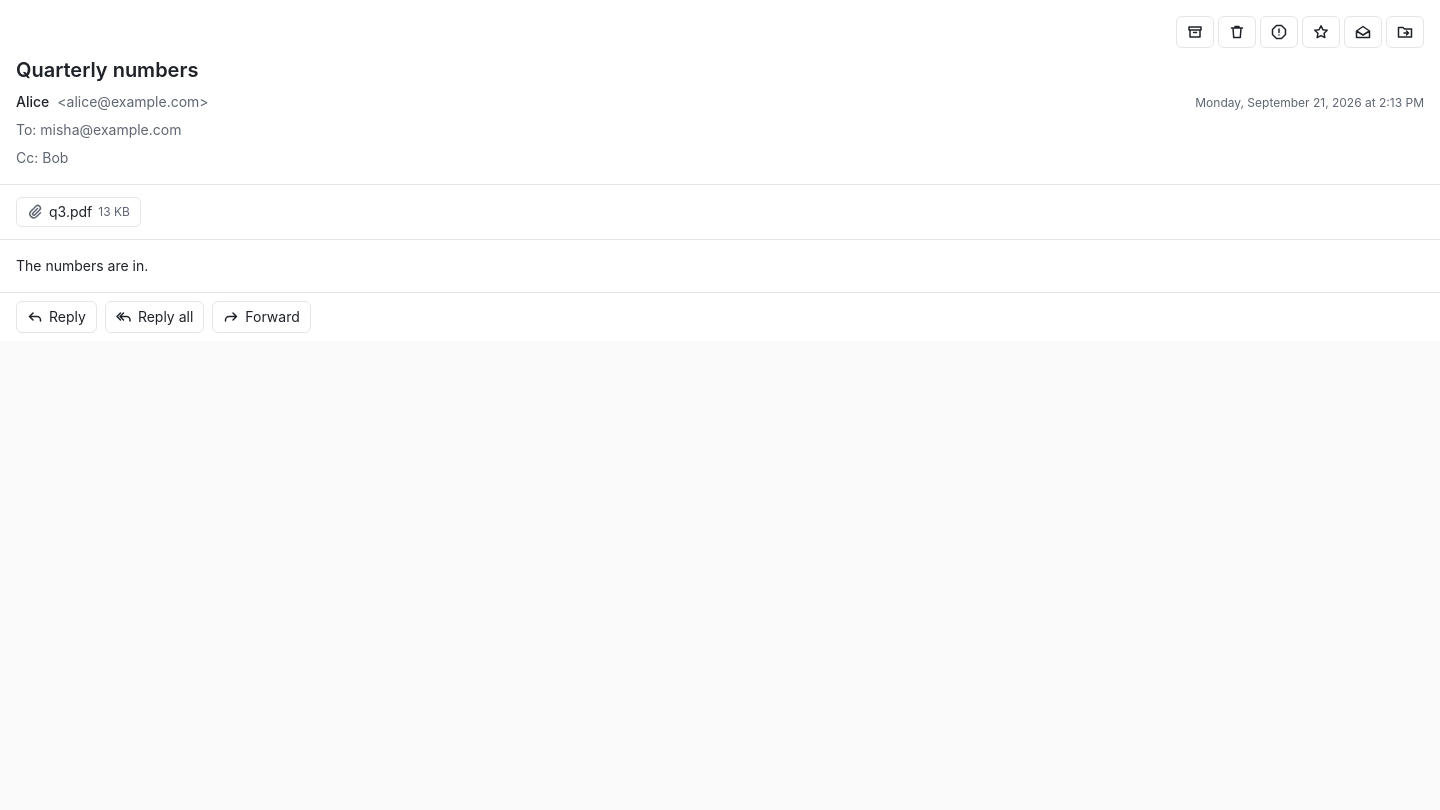
Test case: the reading pane › takes a star back and says why when the server will not take it
Click the button named "Star" at (1321, 32), box x1=1302 y1=16 x2=1340 y2=48
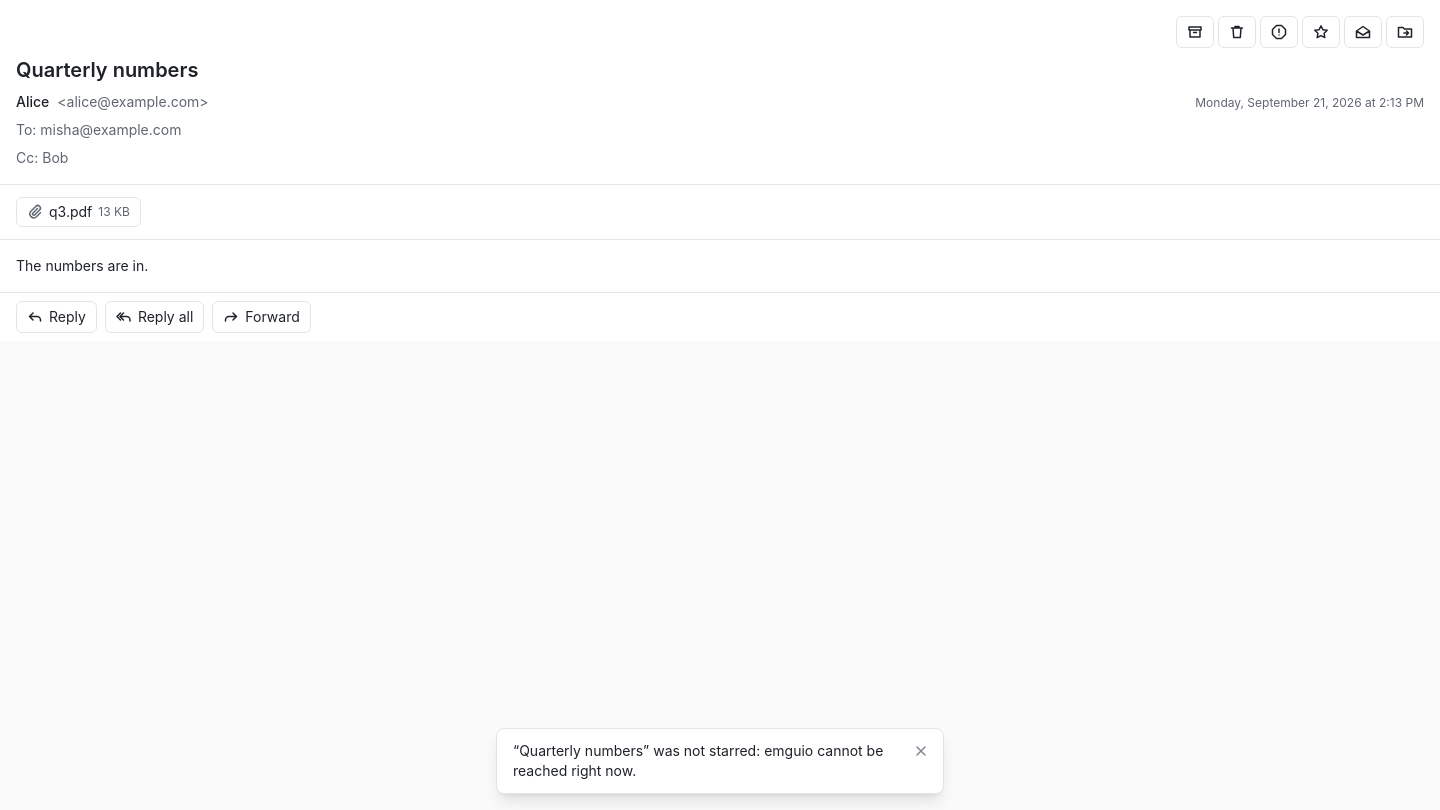
Result: the text "“Quarterly numbers” was not starred: emguio cannot be reached right now." is shown at x1=513 y1=741 x2=899 y2=781
